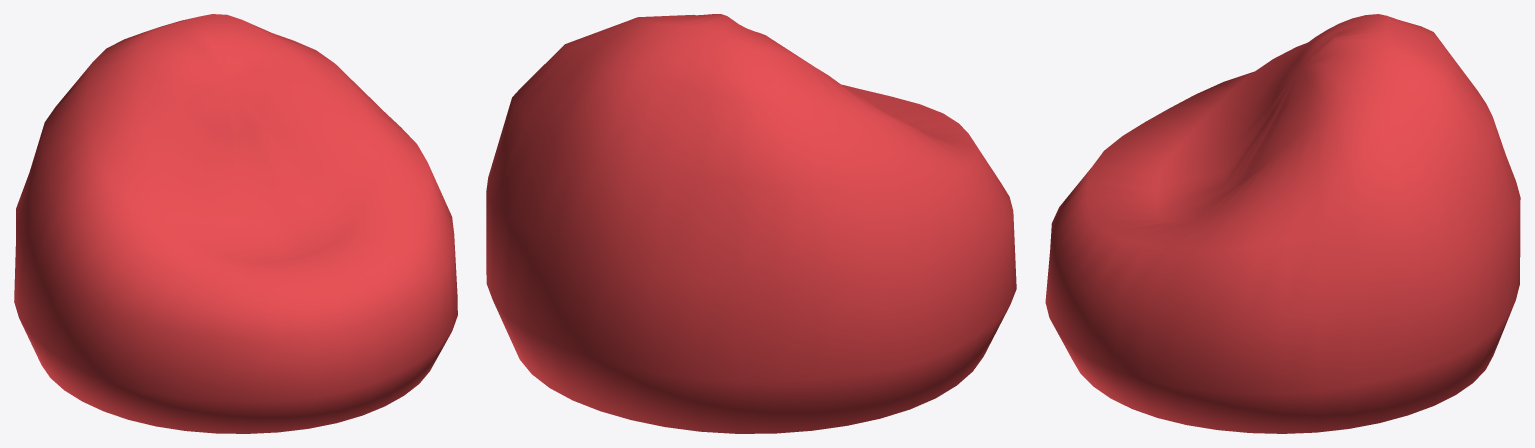
Rendered from pufe_pera_vermelho.glb.
3 renders of one model, left to right at view 1: azimuth 30°, elevation 25°; view 2: azimuth 150°, elevation 25°; view 3: azimuth 270°, elevation 25°, orthographic. The views are drawn at different scales.
Parts seen in each view (by area): view 1: pufe_pera_vermelho; view 2: pufe_pera_vermelho; view 3: pufe_pera_vermelho.
Part boxes in pixels (bbox=[...]): pufe_pera_vermelho: bbox=[14, 14, 457, 433]; pufe_pera_vermelho: bbox=[486, 14, 1016, 433]; pufe_pera_vermelho: bbox=[1045, 14, 1520, 433].
Bounding box in the file's own units: 0.89 × 0.6826 × 0.8913.
1 material, 1 textured.
